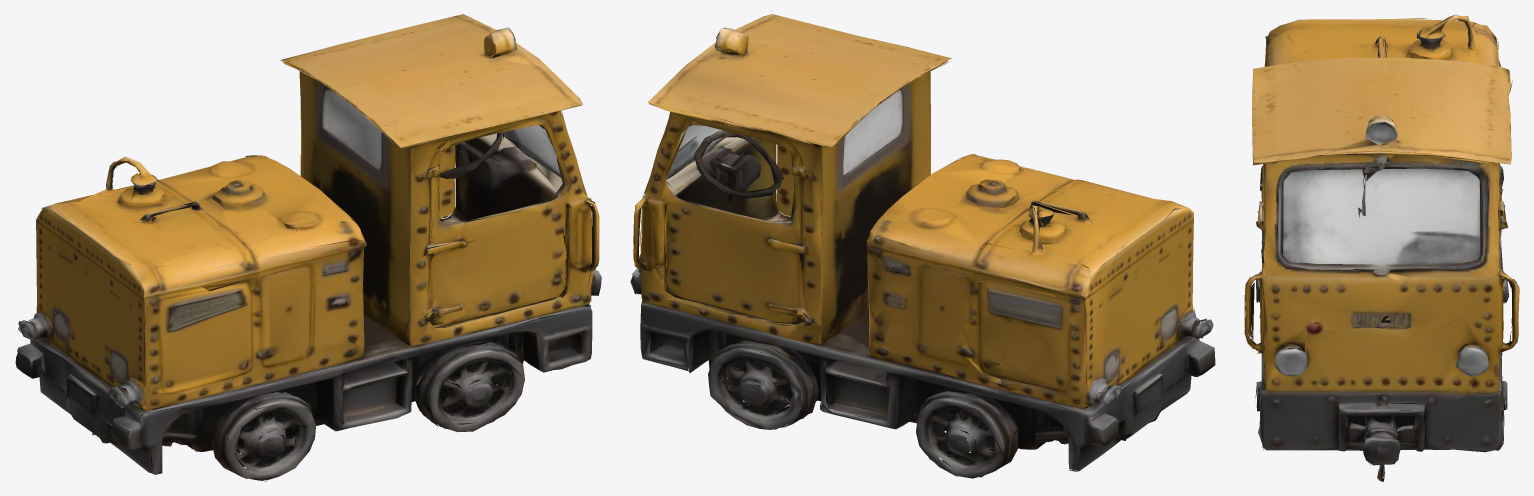
Rendered from locomotora_bat.glb.
3 views of the same model, side by side, from view 1: azimuth 30°, elevation 25°; view 2: azimuth 150°, elevation 25°; view 3: azimuth 270°, elevation 25° (orthographic). The views are drawn at different scales.
Parts seen in each view (by area): view 1: geometry_0; view 2: geometry_0; view 3: geometry_0.
Boxes of the visible parts, x1,y1,x2,y2 form: geometry_0: [15, 14, 601, 481]; geometry_0: [630, 14, 1215, 478]; geometry_0: [1244, 14, 1519, 481].
Bounding box in the file's own units: 2.6 × 1.6 × 1.1.
Materials: 1 (1 with a texture image).
